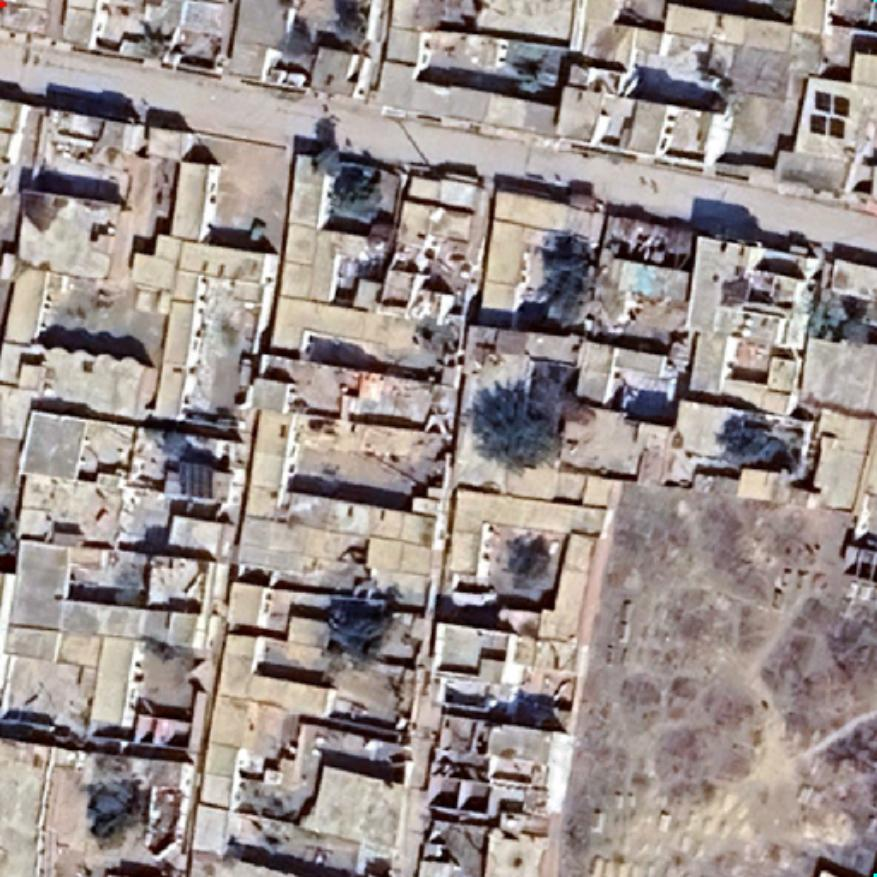Solarpanel: (806, 86, 854, 142), (174, 456, 218, 502)
